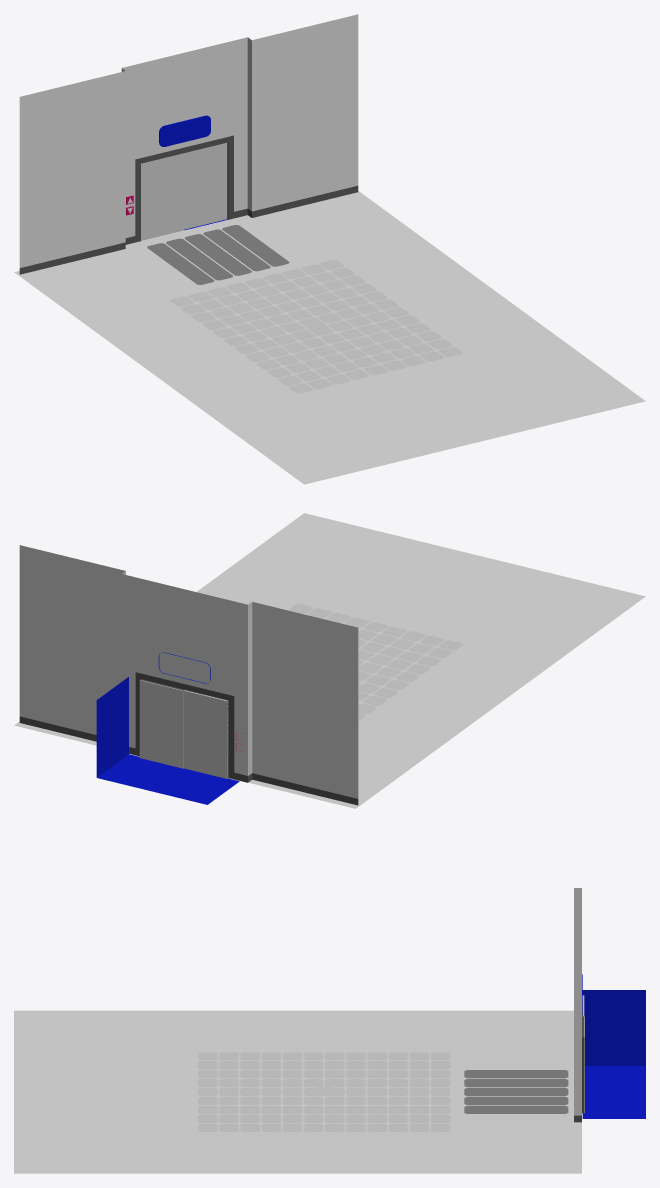
3 renders of one model, top to bottom at view 1: azimuth 30°, elevation 25°; view 2: azimuth 150°, elevation 25°; view 3: azimuth 270°, elevation 25°, orthographic. The views are drawn at different scales.
Visible parts, largest first — view 1: Floor, Wall, Grid_Ref, Holder, Door, Door_001, Top; view 2: Wall, Floor, Room, Grid_Ref, Door, Door_001; view 3: Floor, Grid_Ref, Room, Holder, Wall.
Boxes of the visible parts, x1=… form: Floor: x1=14, y1=191, x2=645, y2=484; Wall: x1=19, y1=14, x2=358, y2=274; Grid_Ref: x1=170, y1=260, x2=462, y2=393; Holder: x1=147, y1=225, x2=289, y2=284; Door: x1=141, y1=153, x2=184, y2=240; Door_001: x1=184, y1=143, x2=227, y2=229; Top: x1=159, y1=115, x2=210, y2=146; Wall: x1=19, y1=545, x2=358, y2=805; Floor: x1=14, y1=513, x2=645, y2=808; Room: x1=96, y1=677, x2=239, y2=804; Grid_Ref: x1=289, y1=603, x2=462, y2=721; Door: x1=183, y1=690, x2=228, y2=778; Door_001: x1=139, y1=680, x2=183, y2=768; Floor: x1=14, y1=1010, x2=581, y2=1173; Grid_Ref: x1=198, y1=1052, x2=450, y2=1131; Room: x1=582, y1=990, x2=645, y2=1118; Holder: x1=464, y1=1070, x2=568, y2=1113; Wall: x1=574, y1=888, x2=584, y2=1122.
Size of the model in its own units: 2371 by 1181 by 3882.
